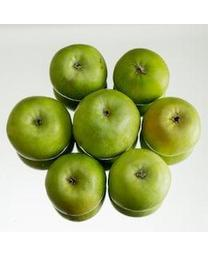apple: (72, 88, 139, 159), (5, 95, 71, 160), (107, 148, 170, 216), (44, 152, 105, 220), (141, 96, 201, 162), (49, 44, 107, 100), (113, 48, 169, 105)
